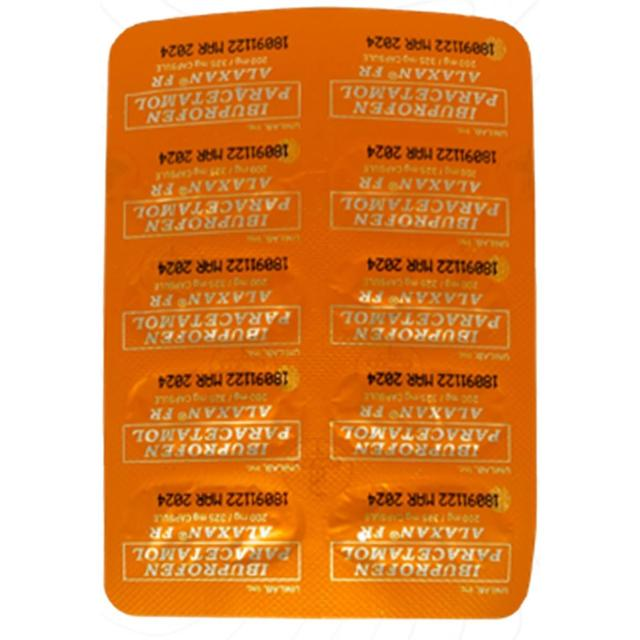blister: (104, 6, 556, 624)
